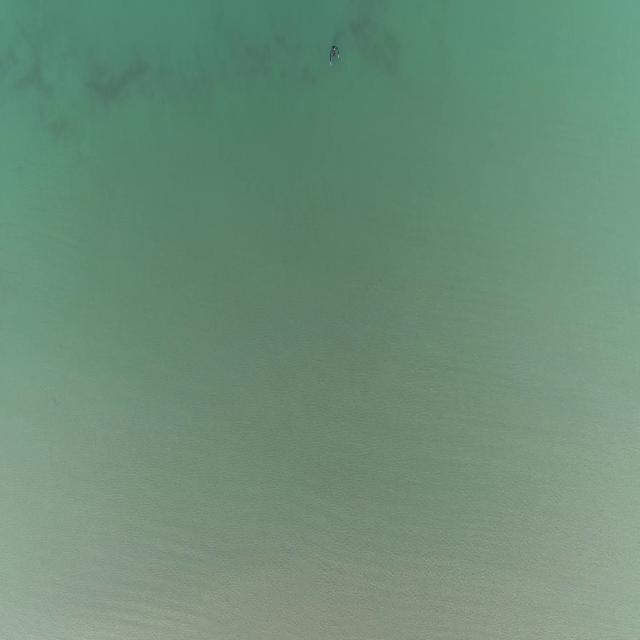person: (328, 45, 341, 65)
